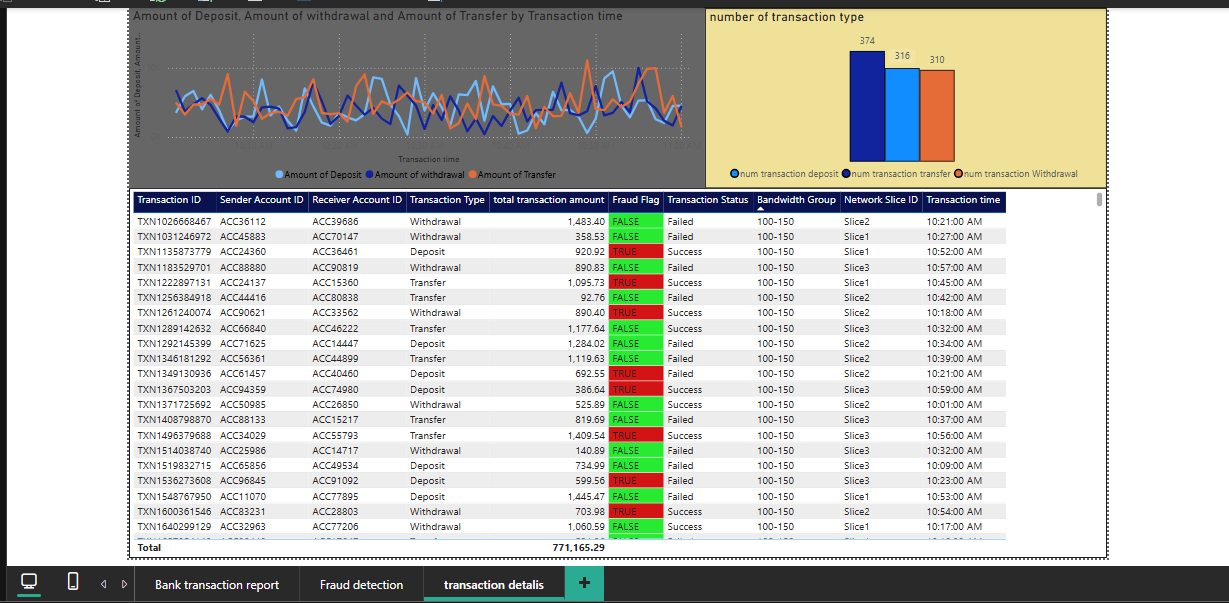

The dashboard page shown, as its layout file describes it:
{"tool":"powerbi","page":{"name":"transaction detalis","canvas":[1280,720],"ordinal":2},"visuals":[{"type":"tableEx","fields":{"Values":["bank transaction_data.Transaction ID","bank transaction_data.Sender Account ID","bank transaction_data.Receiver Account ID","bank transaction_data.Transaction Type","bank transaction_data.total transaction amount","bank transaction_data.Fraud Flag","bank transaction_data.Transaction Status","bank transaction_data.Bandwidth Group","bank transaction_data.Network Slice ID","bank transaction_data.Transaction  time"]},"box":[0,236,1280,484],"z":0},{"type":"clusteredColumnChart","title":"number of transaction type","fields":{"Y":["bank transaction_data.num transaction deposit","bank transaction_data.num transaction transfer","bank transaction_data.num transaction Withdrawal"]},"box":[754,0,526,236],"z":1},{"type":"lineChart","fields":{"Category":["bank transaction_data.Transaction  time"],"Y":["bank transaction_data.Amount of withdrawal","bank transaction_data.Amount of withdrawal1","bank transaction_data.Amount of Transfer"]},"box":[0,0,754,236],"z":2}]}

Visuals, with their boxes on the page's 1280x720 design canvas (x1, y1, x2, y2). These are canvas units, not pixel positions in the 1229x603 screenshot, which may show the page scaled, cropped or inside an application window:
tableEx - bank transaction_data.Transaction ID x bank transaction_data.Sender Account ID: box(0, 236, 1280, 720)
"number of transaction type" clusteredColumnChart: box(754, 0, 1280, 236)
lineChart - bank transaction_data.Transaction  time x bank transaction_data.Amount of withdrawal: box(0, 0, 754, 236)
